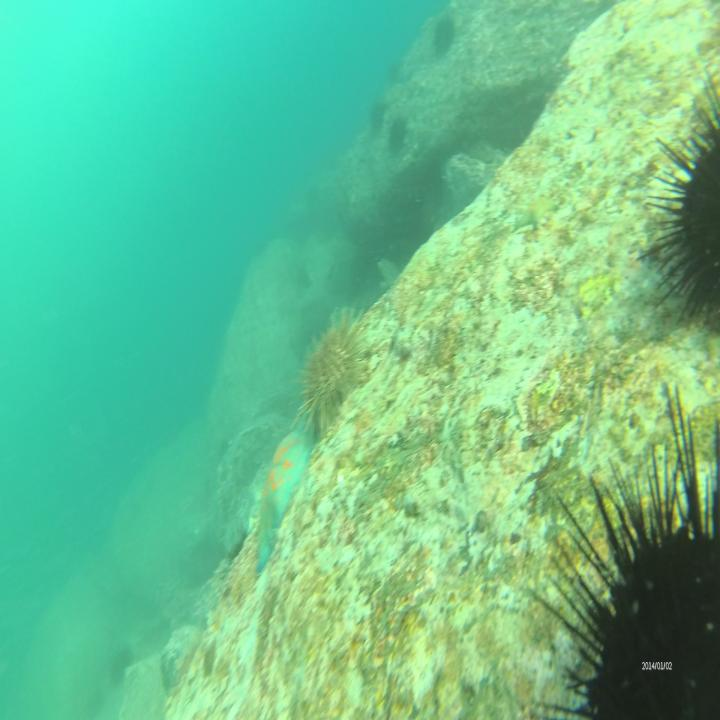echinus: (538, 390, 719, 720), (633, 69, 720, 336), (295, 306, 373, 450), (434, 10, 457, 61), (388, 109, 410, 161), (368, 94, 387, 136)
starfish: (252, 407, 319, 580)
